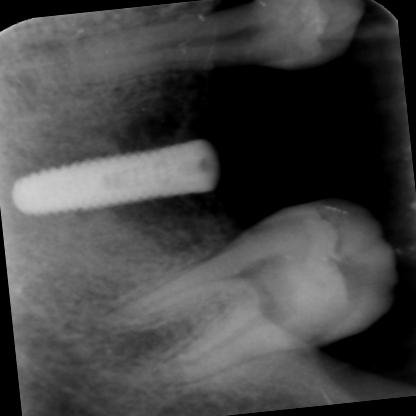Bego: (0, 130, 228, 230)
